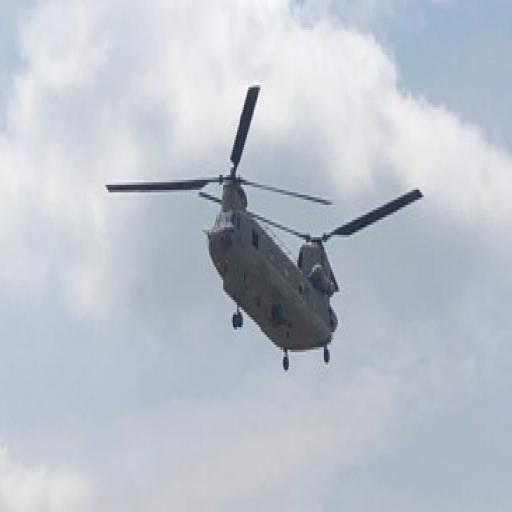helicopter: (108, 89, 425, 373)
